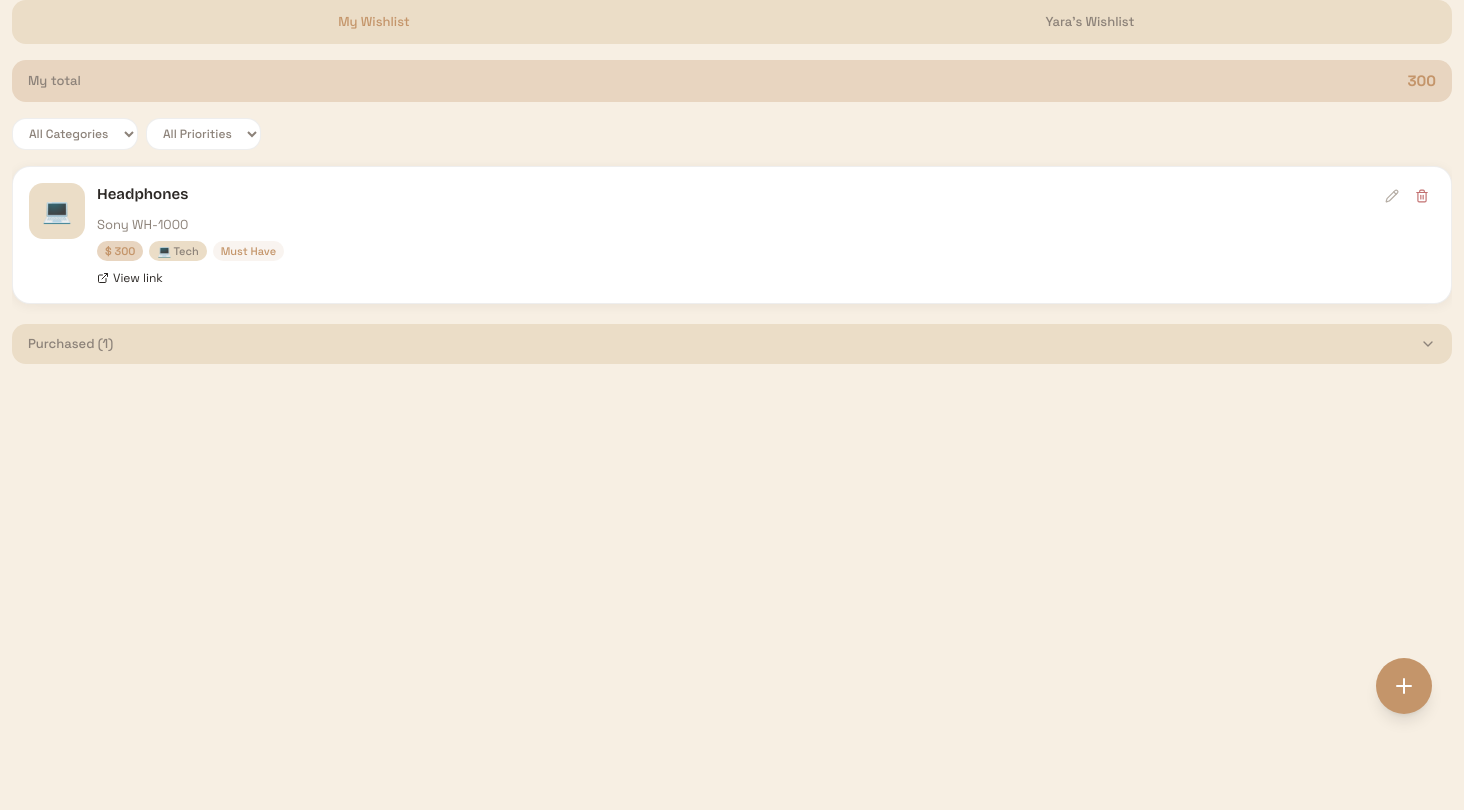
Scenario: WishlistPage › interaction: purchased section › expands purchased section on click
Click the button with test id "purchased-toggle". click: (65, 344)
box: [12, 324, 1452, 364]
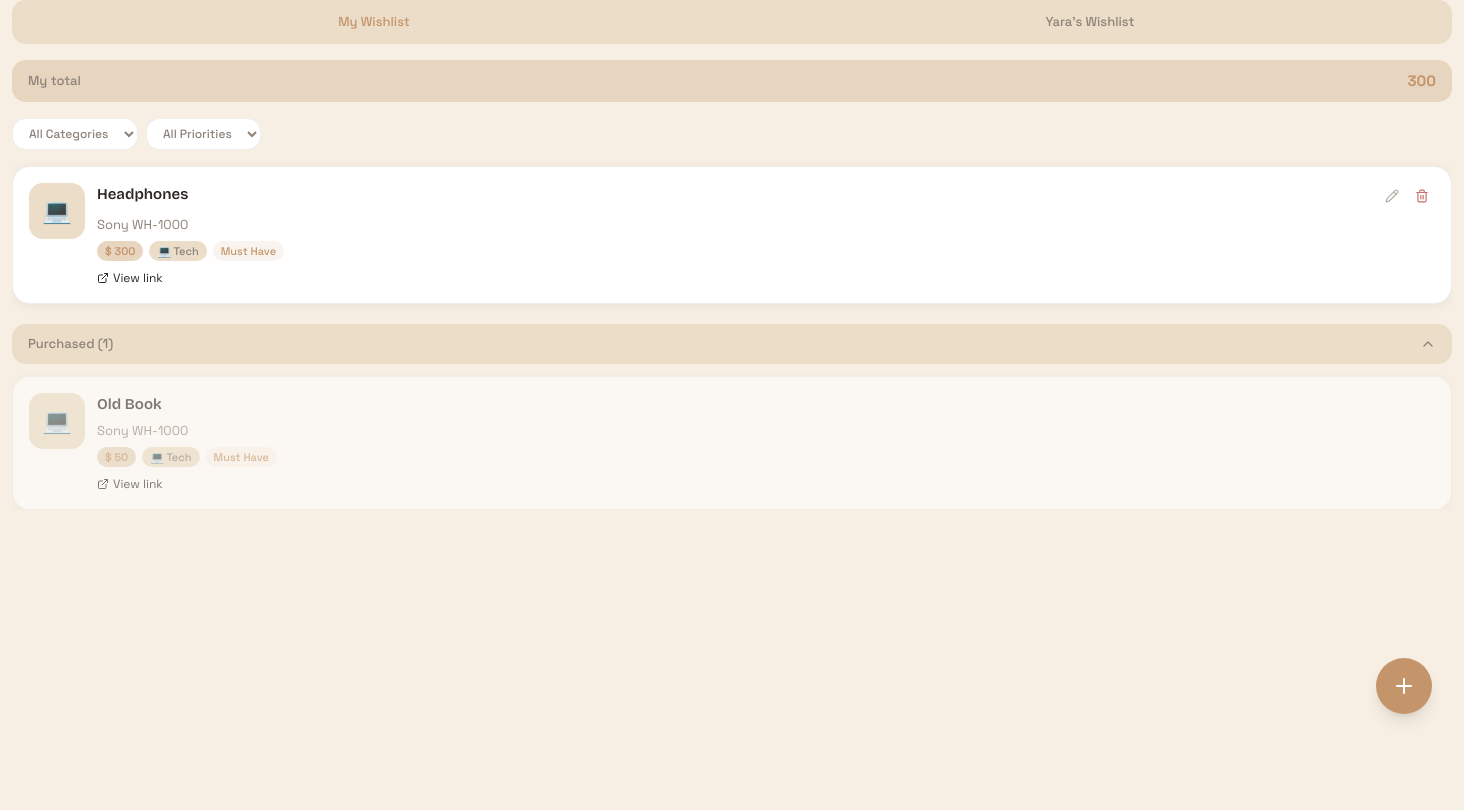
Now the heading "Old Book" is shown, box [97, 392, 162, 415]
